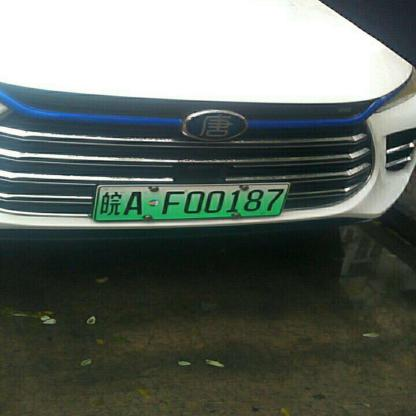lp: (94, 184, 286, 218)
